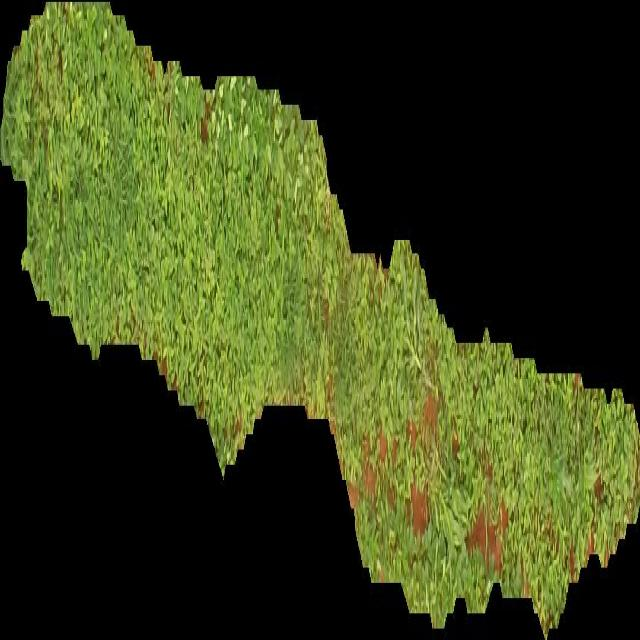Weed: (0, 1, 640, 640)
